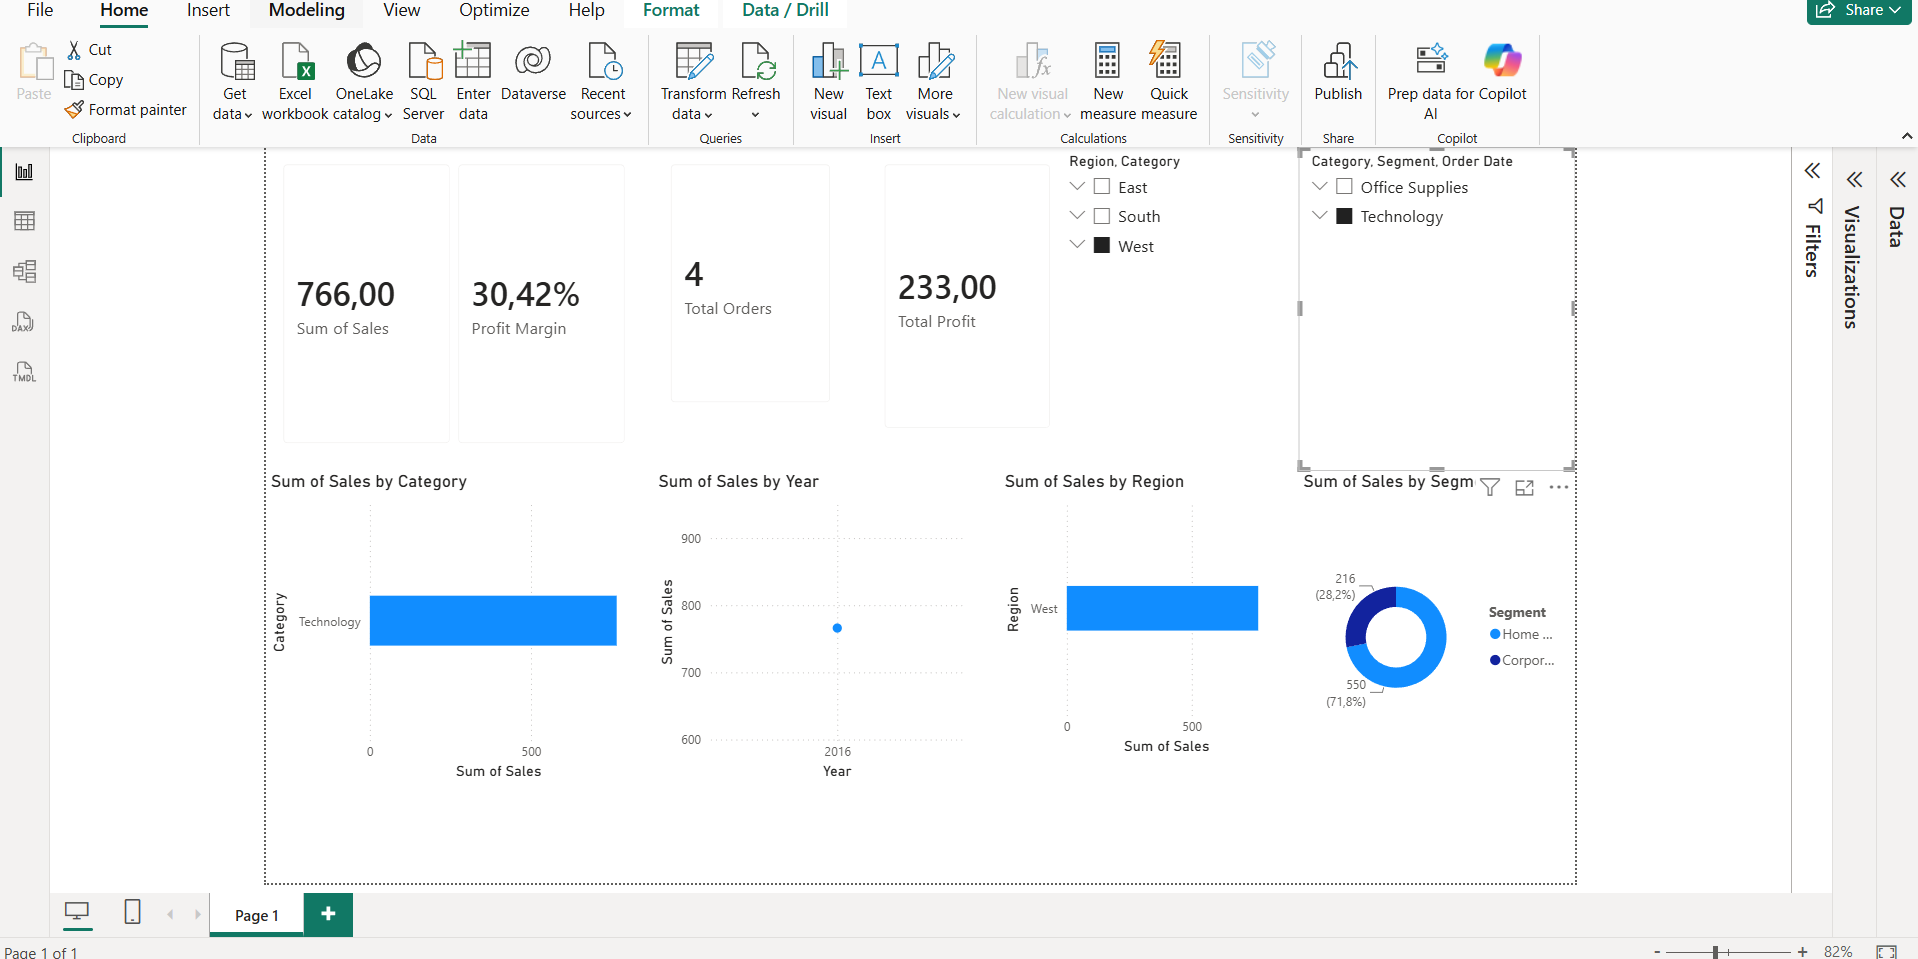

What the dashboard file says about the page in this screenshot:
{"tool":"powerbi","page":{"name":"Page 1","canvas":[1280,720],"ordinal":0},"visuals":[{"type":"cardVisual","fields":{"Data":["Sum(Sample - Superstore.Sales)","Sample - Superstore.Profit Margin"]},"box":[0,0,369.1,307.4],"z":0},{"type":"cardVisual","fields":{"Data":["Sample - Superstore.Total Orders"]},"box":[379.1,0,190.8,267.8],"z":1},{"type":"cardVisual","fields":{"Data":["Sample - Superstore.Total Profit"]},"box":[588.2,0,196.9,292.3],"z":2},{"type":"clusteredBarChart","fields":{"Y":["Sum(Sample - Superstore.Sales)"],"Category":["Sample - Superstore.Category"]},"box":[0,317,369,307],"z":3},{"type":"lineChart","fields":{"Category":["Sample - Superstore.Order Date.Variation.Date Hierarchy.Year","Sample - Superstore.Order Date.Variation.Date Hierarchy.Quarter","Sample - Superstore.Order Date.Variation.Date Hierarchy.Month","Sample - Superstore.Order Date.Variation.Date Hierarchy.Day"],"Y":["Sum(Sample - Superstore.Sales)"]},"box":[379.1,316.7,308.2,306.9],"z":4},{"type":"clusteredBarChart","fields":{"Category":["Sample - Superstore.Region"],"Y":["Sum(Sample - Superstore.Sales)"]},"box":[717.8,316.7,276.4,282.5],"z":5},{"type":"donutChart","fields":{"Y":["Sum(Sample - Superstore.Sales)"],"Category":["Sample - Superstore.Segment"]},"box":[1010.1,316.7,270.2,306.9],"z":6},{"type":"slicer","fields":{"Values":["Sample - Superstore.Region","Sample - Superstore.Category"]},"box":[772.8,0,221.3,316.7],"z":7},{"type":"slicer","fields":{"Values":["Sample - Superstore.Category","Sample - Superstore.Segment","Sample - Superstore.Order Date"]},"box":[1010,0,270,317],"z":8}]}

Visuals, with their boxes on the page's 1280x720 design canvas (x1, y1, x2, y2). These are canvas units, not pixel positions in the 1918x959 screenshot, which may show the page scaled, cropped or inside an application window:
cardVisual - Sum(Sample - Superstore.Sales) x Sample - Superstore.Profit Margin: <region>0, 0, 369, 307</region>
cardVisual - Sample - Superstore.Total Orders: <region>379, 0, 570, 268</region>
cardVisual - Sample - Superstore.Total Profit: <region>588, 0, 785, 292</region>
clusteredBarChart - Sum(Sample - Superstore.Sales) x Sample - Superstore.Category: <region>0, 317, 369, 624</region>
lineChart - Sample - Superstore.Order Date.Variation.Date Hierarchy.Year x Sample - Superstore.Order Date.Variation.Date Hierarchy.Quarter: <region>379, 317, 687, 624</region>
clusteredBarChart - Sample - Superstore.Region x Sum(Sample - Superstore.Sales): <region>718, 317, 994, 599</region>
donutChart - Sum(Sample - Superstore.Sales) x Sample - Superstore.Segment: <region>1010, 317, 1280, 624</region>
slicer - Sample - Superstore.Region x Sample - Superstore.Category: <region>773, 0, 994, 317</region>
slicer - Sample - Superstore.Category x Sample - Superstore.Segment: <region>1010, 0, 1280, 317</region>
